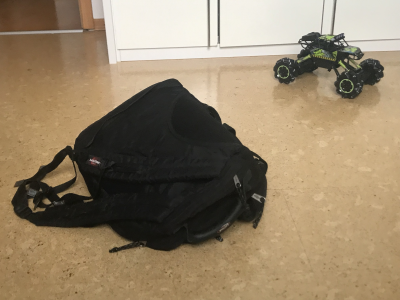remote control car: (271, 27, 386, 99)
